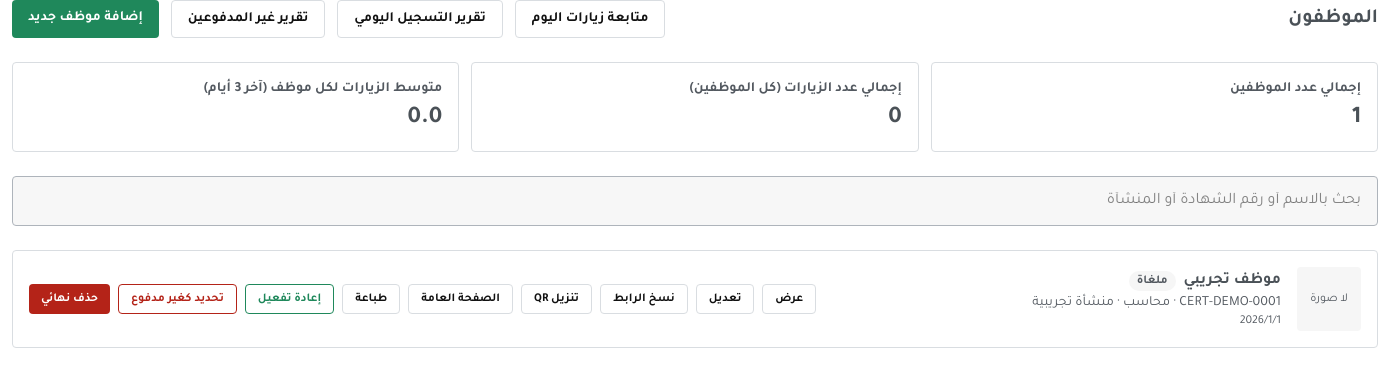
Scenario: EmployeeListPage deactivate/reactivate › shows only "إعادة تفعيل" for a deactivated employee, and reactivates them on click
Expected: the text "موظف تجريبي" is shown, [1184,269,1281,293]
Expected: the button "إلغاء التفعيل" is not shown
Click the button "إعادة تفعيل": (289, 299) [245,284,334,314]
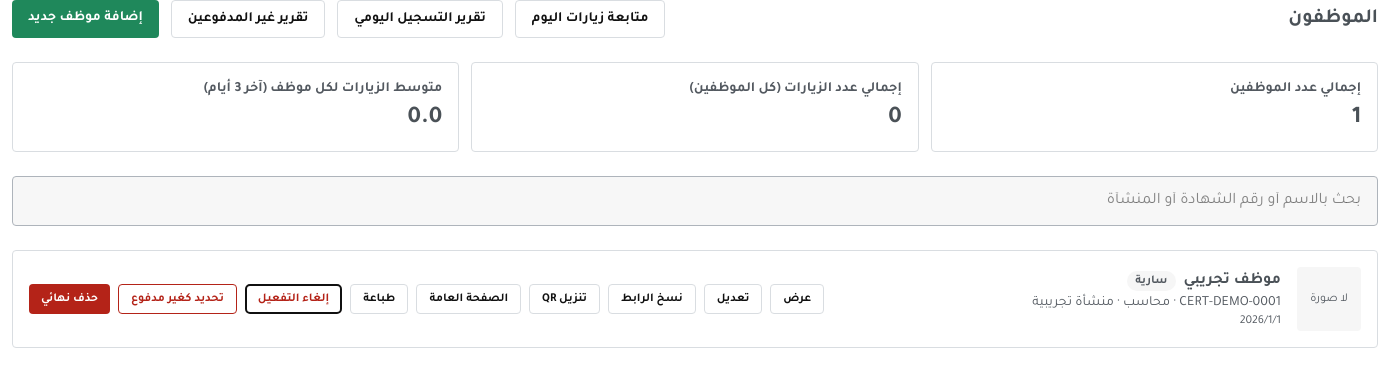
Expected: the button "إلغاء التفعيل" is shown, [245,284,342,314]
